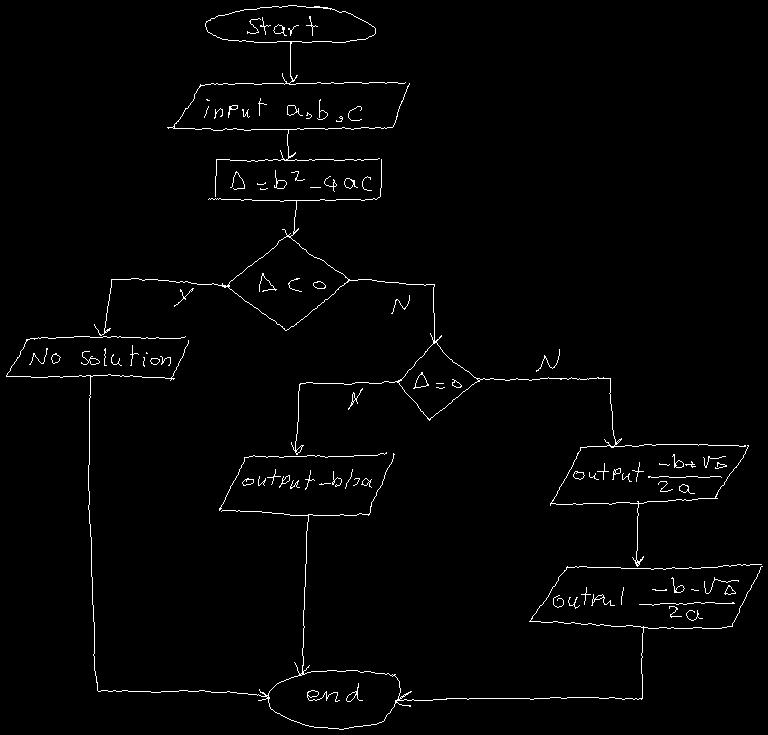arrow: (88, 375, 269, 700), (395, 626, 643, 706), (476, 377, 621, 447), (291, 380, 398, 454), (94, 278, 229, 335), (348, 279, 441, 343), (294, 514, 309, 674), (632, 501, 643, 566), (282, 42, 297, 83), (282, 200, 298, 237), (280, 130, 295, 160)
data: (529, 564, 762, 628), (550, 444, 748, 505), (167, 82, 409, 130), (219, 452, 394, 515), (6, 336, 188, 380)
decision: (222, 233, 350, 330), (396, 341, 479, 420)
process: (208, 158, 381, 201)
terminator: (268, 670, 400, 729), (205, 5, 375, 42)
text: (553, 577, 738, 620), (573, 454, 726, 493), (204, 98, 361, 121), (230, 170, 371, 191), (29, 345, 170, 366), (242, 469, 371, 489), (247, 16, 317, 35), (259, 273, 325, 291), (307, 683, 362, 701), (413, 372, 461, 388), (536, 349, 559, 371), (174, 288, 193, 306), (391, 295, 409, 313), (348, 388, 362, 409)
